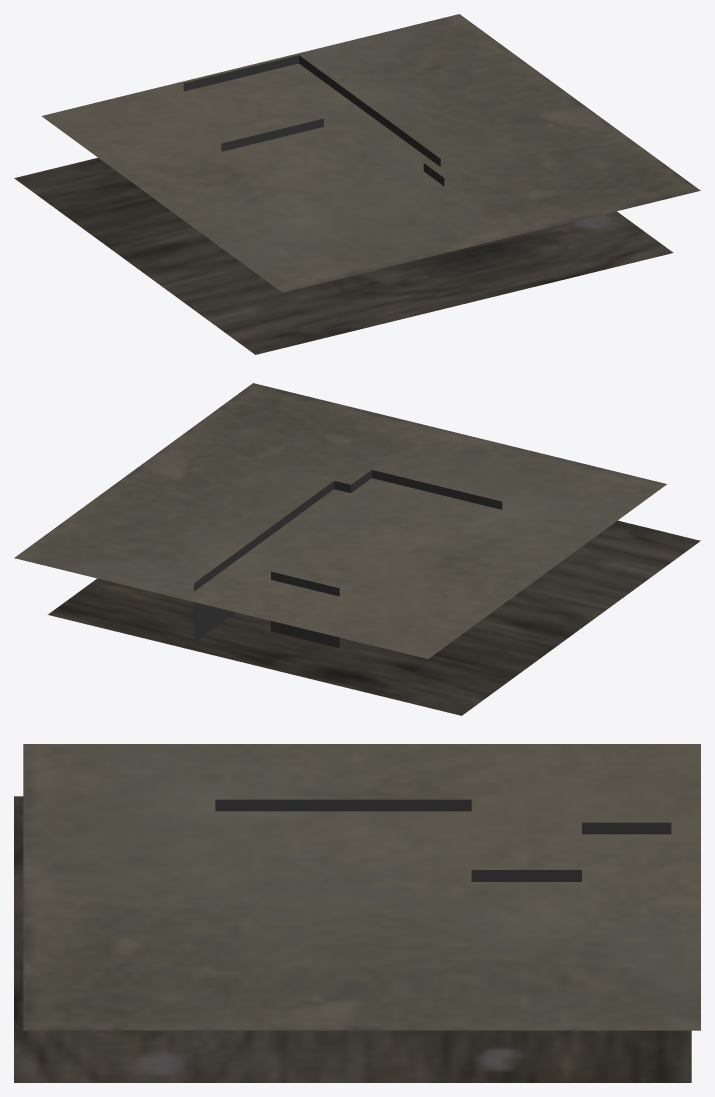
Rendered from RaumRealtimeBlackroom_Try_2.fbx.
3 renders of one model, top to bottom at view 1: azimuth 30°, elevation 25°; view 2: azimuth 150°, elevation 25°; view 3: azimuth 270°, elevation 25°, orthographic. The views are drawn at different scales.
Visible parts, largest first — view 1: Decke, Boden, Wand; view 2: Decke, Boden, Wand; view 3: Decke, Boden, Wand.
Part boxes in pixels (box(x1,y1,x2,y2)): Decke: box(41, 14, 700, 292); Boden: box(14, 158, 673, 354); Wand: box(183, 55, 444, 185); Decke: box(14, 383, 666, 658); Boden: box(48, 520, 700, 715); Wand: box(194, 470, 502, 648); Decke: box(23, 744, 700, 1030); Boden: box(14, 796, 691, 1082); Wand: box(215, 799, 671, 881).
Bounding box in the file's own units: 8352 × 1096 × 7890.
